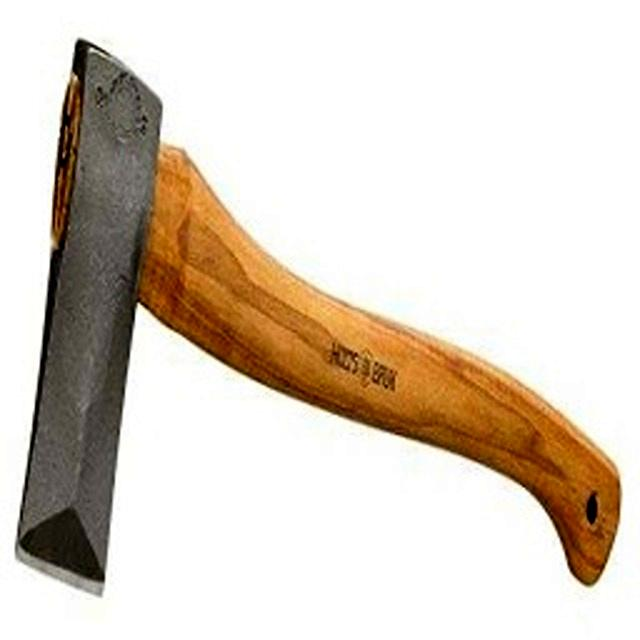ax: (5, 29, 634, 606)
